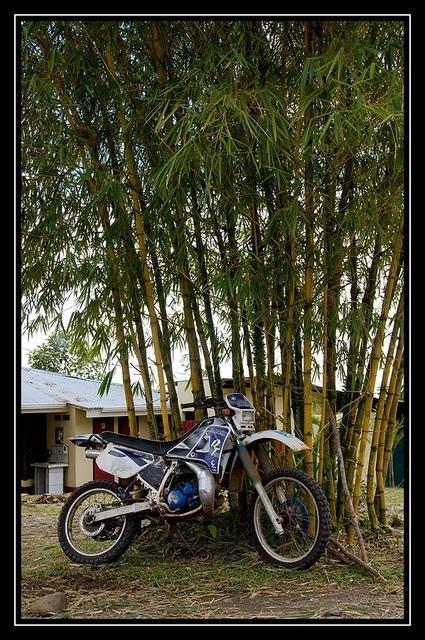motorcycle: (56, 393, 330, 571)
